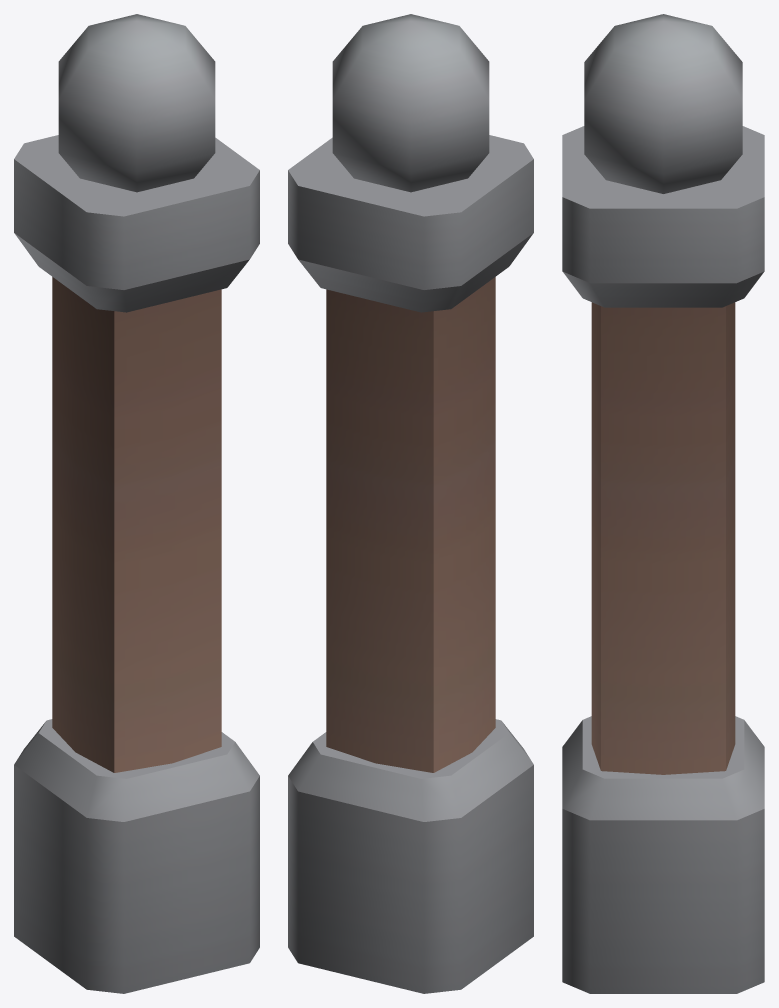
Rendered from pillar-large.glb.
The picture shows the model from 3 angles, left to right: view 1: azimuth 30°, elevation 25°; view 2: azimuth 150°, elevation 25°; view 3: azimuth 270°, elevation 25°; orthographic projection.
Visible parts, largest first — view 1: pillar-large; view 2: pillar-large; view 3: pillar-large.
Part boxes in pixels (x1,y1,x2,y2): pillar-large: (14,14,259,993); pillar-large: (288,14,533,993); pillar-large: (562,14,764,993).
Size of the model in its own units: 0.5316 by 2.7 by 0.5316.
1 material, 1 textured.
